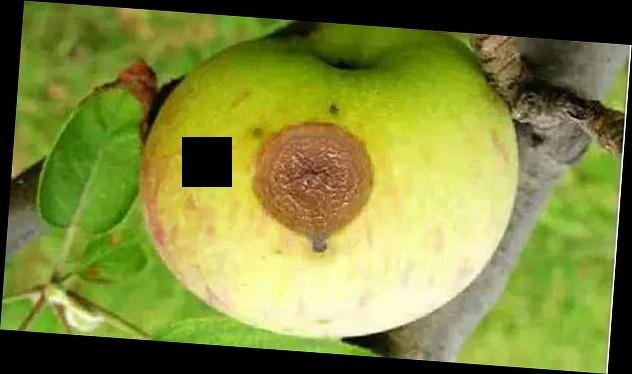rotten apple: (133, 26, 522, 340)
